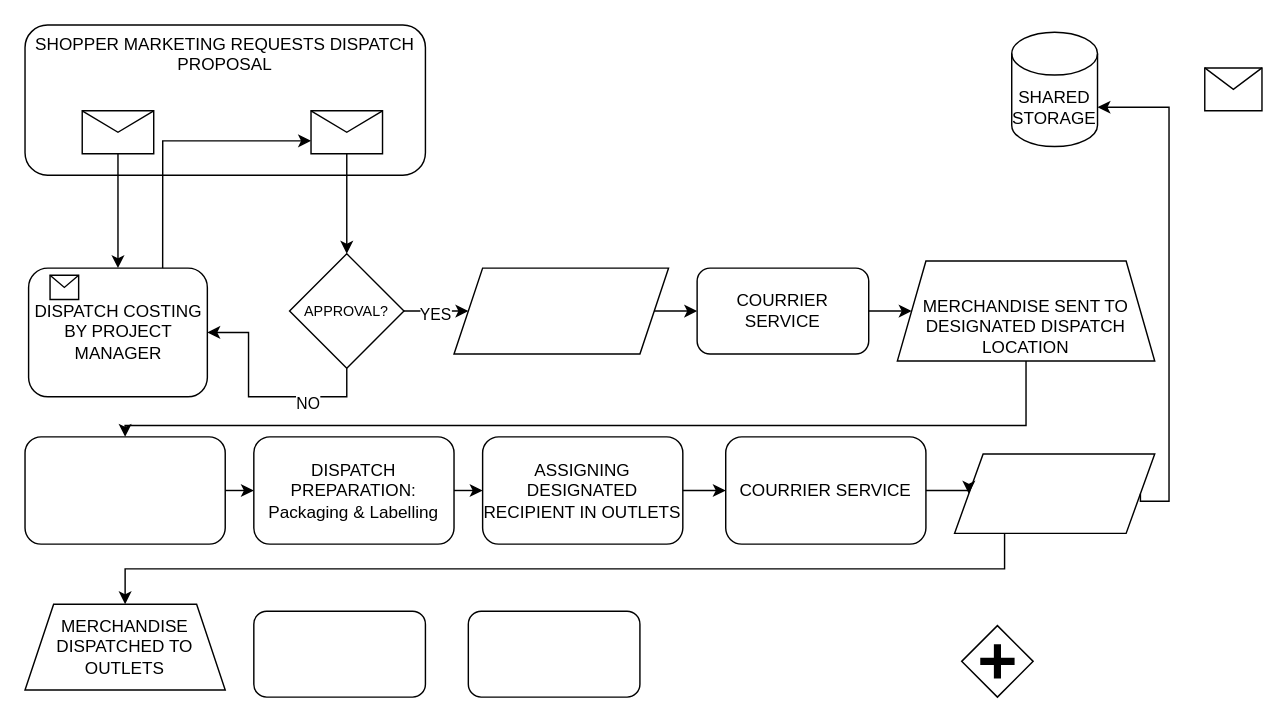
This 1287x722 diagram has some shape labels left out. The centre of each missing label's shape, as x and y in pixels:
"DESIGNATED DISPATCH HANDLER RECEIVES, VERIFIES AND SIGNS" belongs at point 124,489.
"PURCHASE ORDER" belongs at point 561,310.
"Receive" belongs at point 346,131.
"Request" belongs at point 117,131.
"SHIPMENT WAYBILLS" belongs at point 1054,493.
